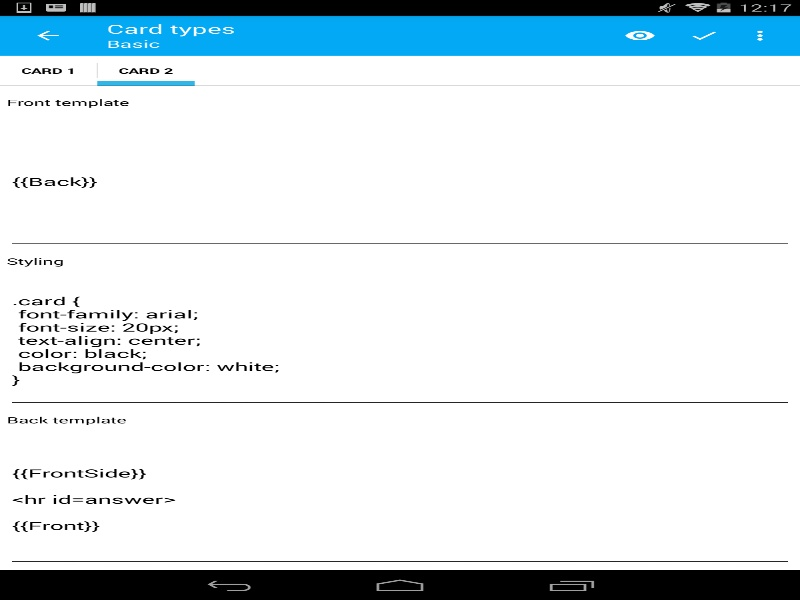Button: (10, 15, 85, 55)
Input: (6, 114, 793, 249), (6, 273, 793, 407), (6, 432, 793, 566)
